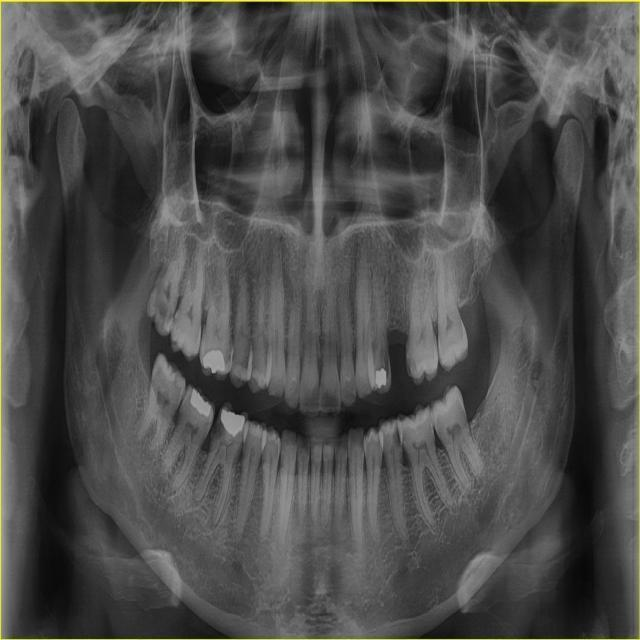NucleOSS Implant: (183, 388, 215, 420), (216, 409, 246, 437), (202, 349, 226, 374), (375, 367, 386, 389)
Sterngold Implant: (150, 292, 176, 327), (208, 410, 227, 454), (380, 348, 390, 378), (170, 309, 183, 330), (392, 423, 402, 449), (408, 356, 418, 377)
